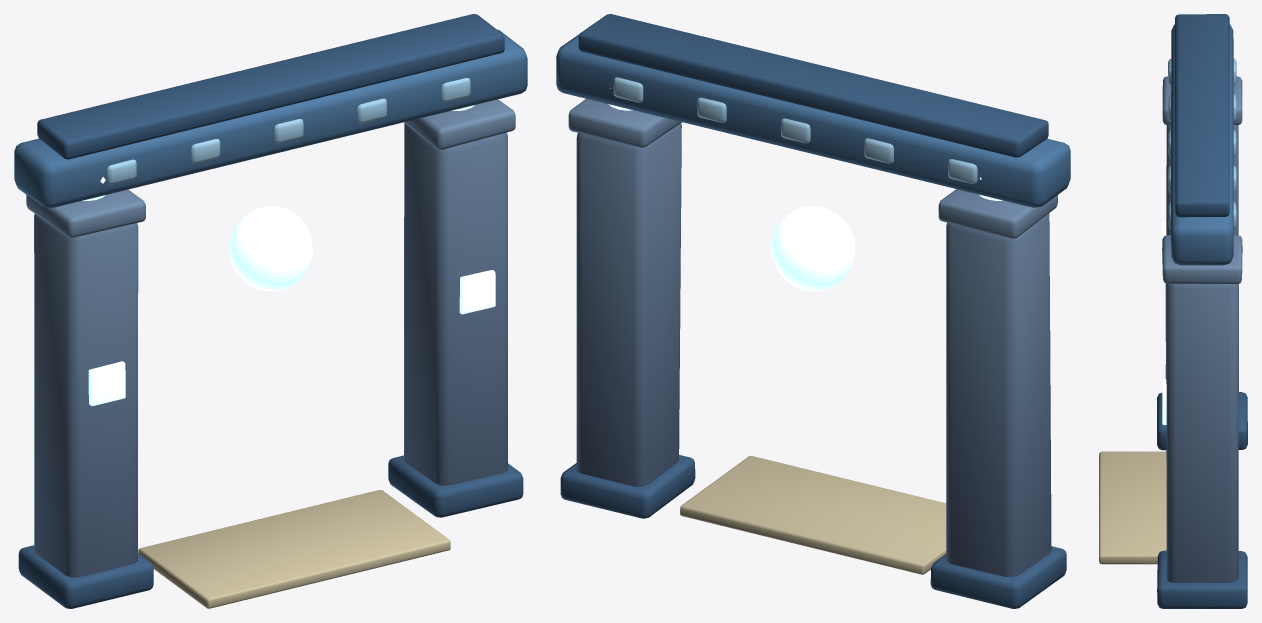
3 views of the same model, side by side, from view 1: azimuth 30°, elevation 25°; view 2: azimuth 150°, elevation 25°; view 3: azimuth 270°, elevation 25° (orthographic). The views are drawn at different scales.
Visible parts, largest first — view 1: gate_d8f41725; view 2: gate_d8f41725; view 3: gate_d8f41725.
Part boxes in pixels (x1,y1,x2,y2): gate_d8f41725: [14, 14, 527, 608]; gate_d8f41725: [556, 14, 1070, 608]; gate_d8f41725: [1099, 14, 1247, 608].
Bounding box in the file's own units: 4.79 × 4.34 × 1.44.
